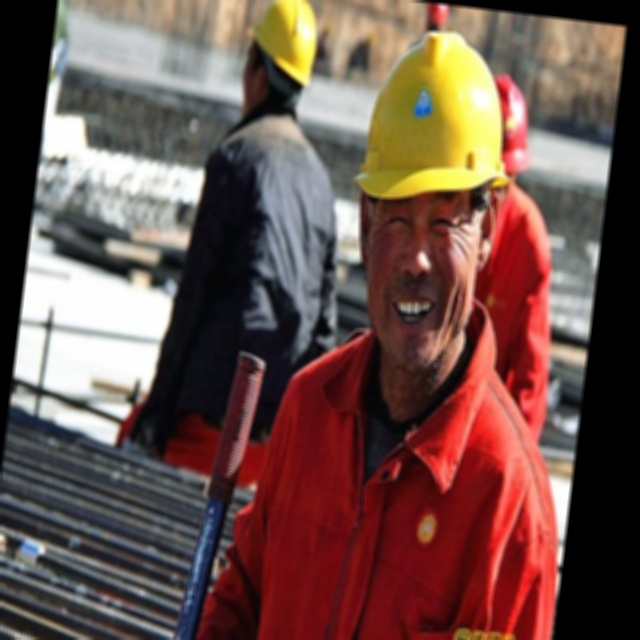Con_Casco: (331, 20, 517, 392)
